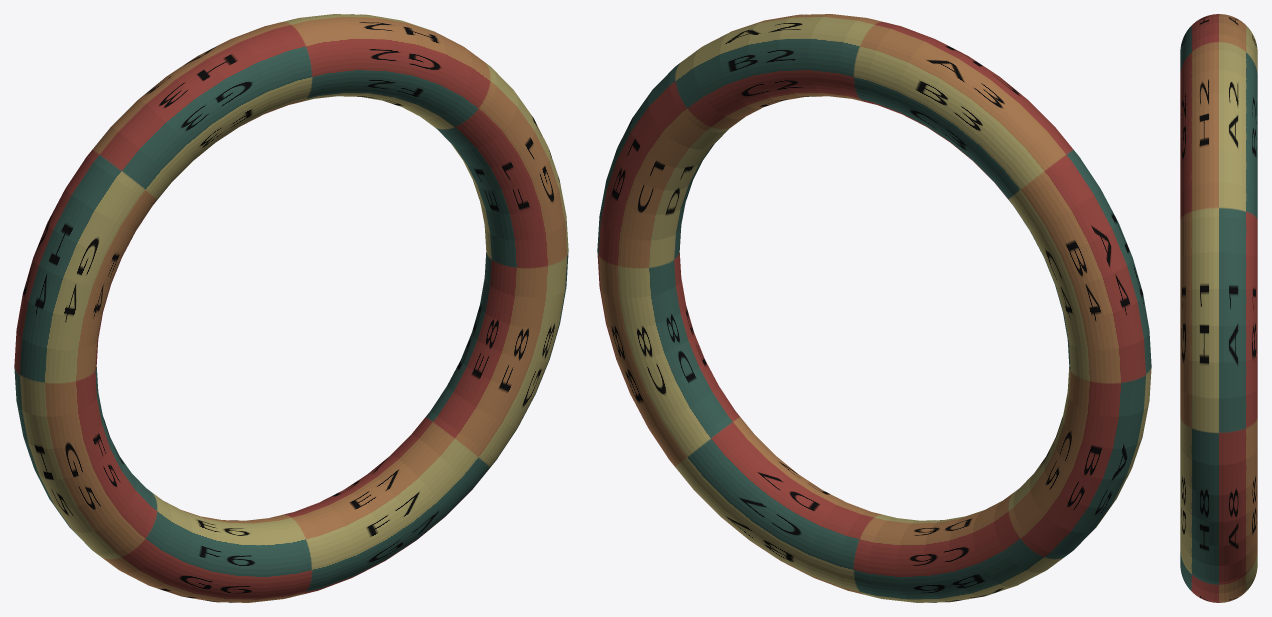
Rendered from texture_torus_R26_r8.glb.
The picture shows the model from 3 angles, left to right: view 1: azimuth 30°, elevation 25°; view 2: azimuth 150°, elevation 25°; view 3: azimuth 270°, elevation 25°; orthographic projection. The views are drawn at different scales.
Visible parts, largest first — view 1: world; view 2: world; view 3: world.
Part boxes in pixels (x1,y1,x2,y2): world: (14,14,568,602); world: (597,14,1151,602); world: (1180,14,1257,602).
Size of the model in its own units: 31.47 by 31.4 by 4.13.
Materials: 1 (1 with a texture image).
